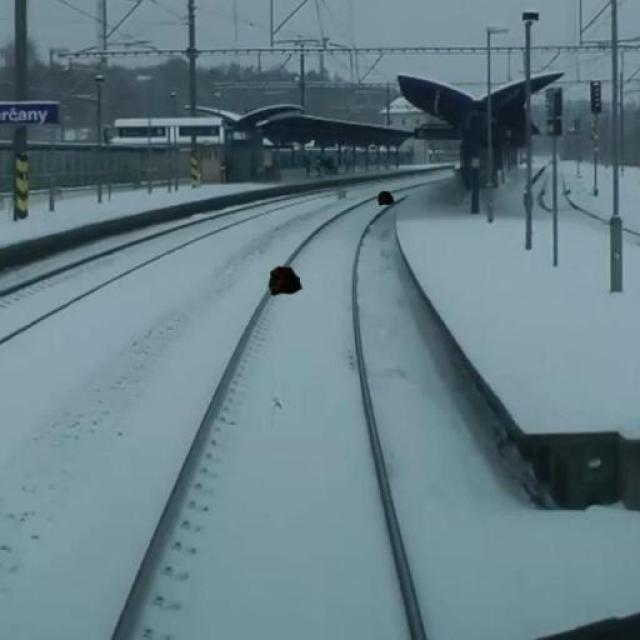Stone: (269, 263, 314, 303), (371, 188, 398, 208)
